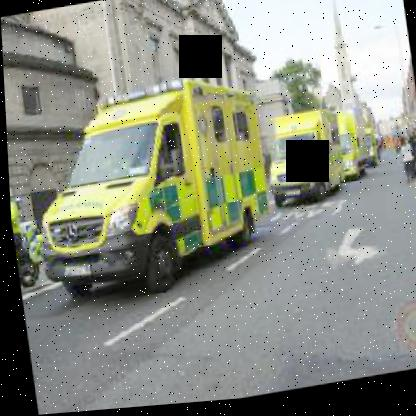emergency: (16, 67, 271, 316), (260, 100, 369, 224)
